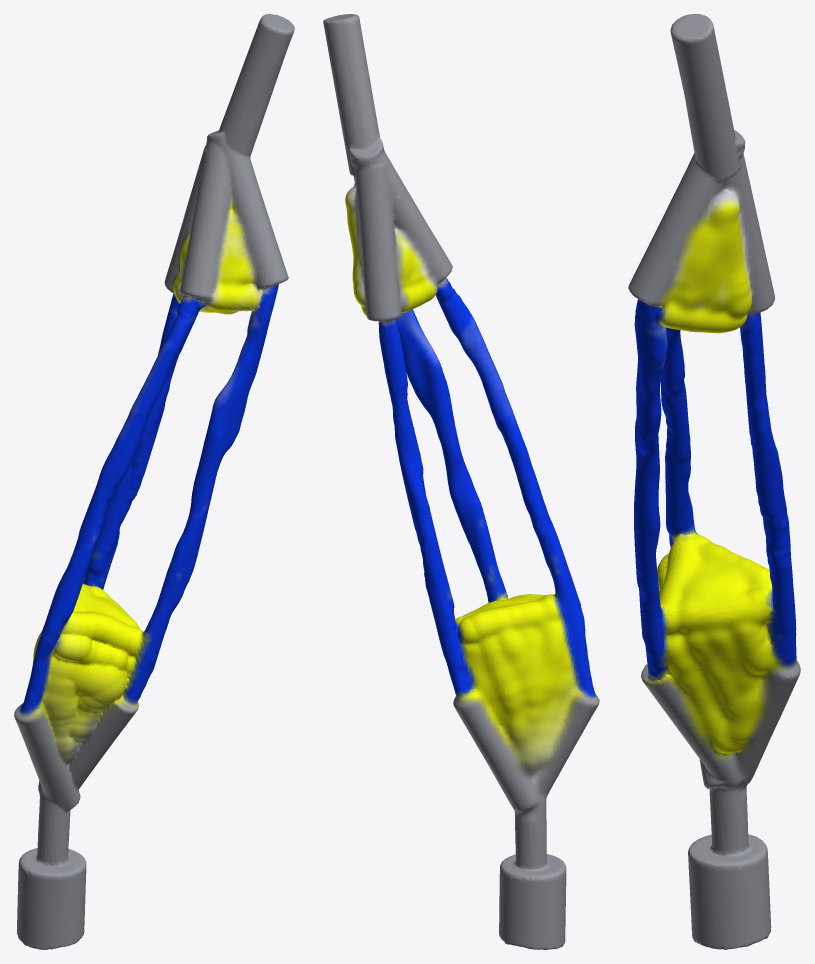
File: center handle.fbx
3 renders of one model, left to right at view 1: azimuth 30°, elevation 25°; view 2: azimuth 150°, elevation 25°; view 3: azimuth 270°, elevation 25°, orthographic. The views are drawn at different scales.
Parts seen in each view (by area): view 1: Layer_1; view 2: Layer_1; view 3: Layer_1.
Boxes of the visible parts, left/top/right/bottom form: Layer_1: left=14, top=14, right=294, bottom=949; Layer_1: left=323, top=14, right=599, bottom=949; Layer_1: left=628, top=14, right=800, bottom=949.
Bounding box in the file's own units: 0.9204 × 0.4208 × 2.8.
